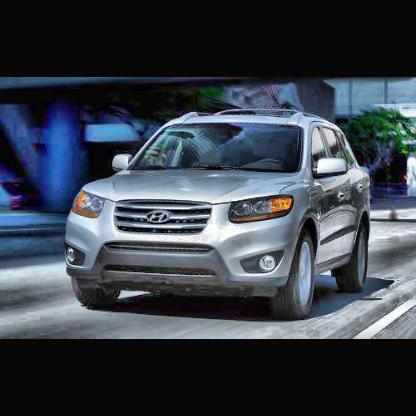Hyundai Santa Fe SUV 2012: (67, 112, 373, 314)
